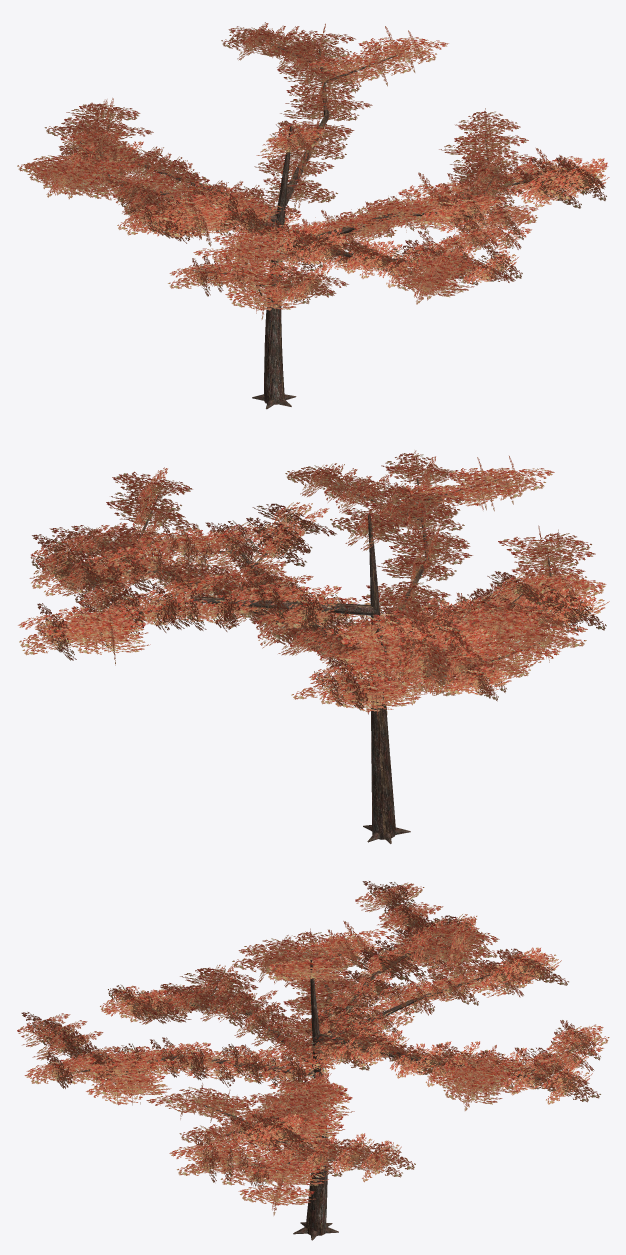
File: tree_3d_06_copper_lod0.glb
The picture shows the model from 3 angles, top to bottom: view 1: azimuth 30°, elevation 25°; view 2: azimuth 150°, elevation 25°; view 3: azimuth 270°, elevation 25°; orthographic projection. The views are drawn at different scales.
Visible parts, largest first — view 1: foliage_cards, wood_geometry; view 2: foliage_cards, wood_geometry; view 3: foliage_cards, wood_geometry.
Part boxes in pixels (bbox=[...]): foliage_cards: bbox=[17, 22, 609, 319]; wood_geometry: bbox=[80, 40, 575, 409]; foliage_cards: bbox=[18, 450, 609, 720]; wood_geometry: bbox=[57, 478, 580, 843]; foliage_cards: bbox=[17, 881, 609, 1215]; wood_geometry: bbox=[57, 903, 582, 1240].
Bounding box in the file's own units: 14.66 × 7.46 × 14.25.
2 materials, 2 textured.
